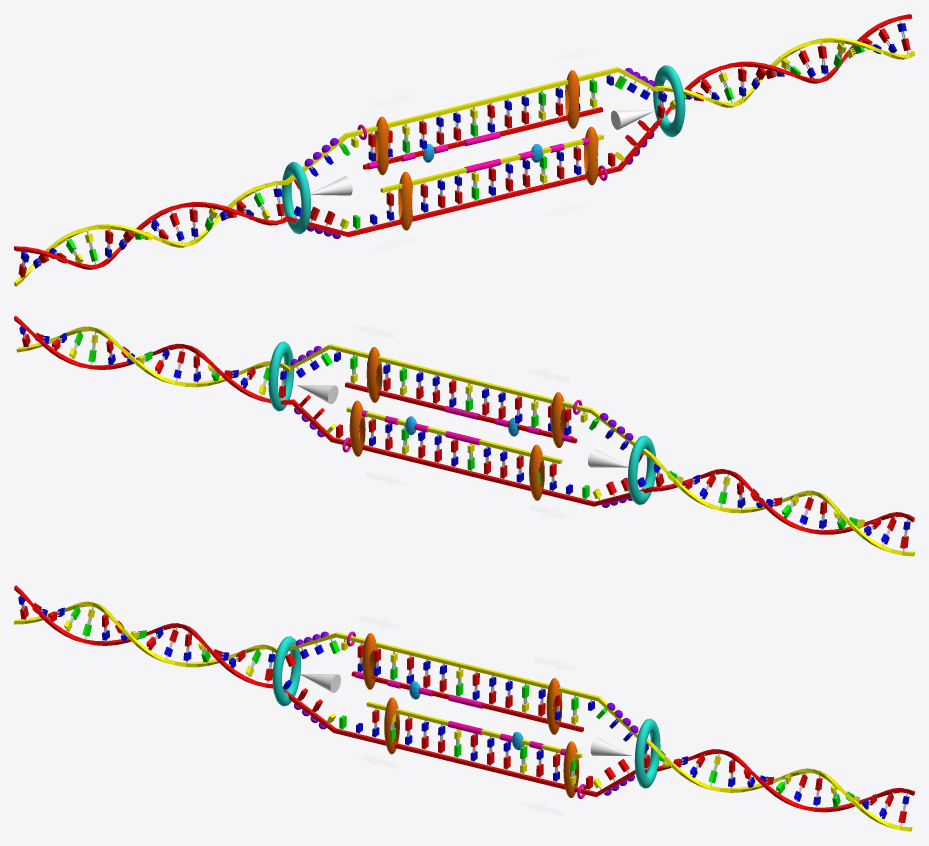
File: dna_replication_model.glb
3 renders of one model, top to bottom at view 1: azimuth 30°, elevation 25°; view 2: azimuth 150°, elevation 25°; view 3: azimuth 330°, elevation 25°, orthographic. The views are drawn at different scales.
Visible parts, largest first — view 1: DNA, DNA.001, Torus, Torus.002, Sphere.020, Sphere.023, Sphere.021, Sphere.022; view 2: DNA, DNA.001, Torus, Torus.002, Sphere.022, Sphere.020, Sphere.023, Sphere.021; view 3: DNA, DNA.001, Torus.002, Torus, Sphere.020, Sphere.021, Sphere.023, Sphere.022.
Boxes of the visible parts, x1,y1,x2,y2 form: DNA: (14,180,288,286); DNA.001: (651,14,914,125); Torus: (281,162,310,234); Torus.002: (653,65,685,136); Sphere.020: (398,171,412,230); Sphere.023: (565,70,579,128); Sphere.021: (374,116,388,175); Sphere.022: (584,126,598,185); DNA: (649,453,914,556); DNA.001: (14,315,293,404); Torus: (628,435,655,504); Torus.002: (268,341,294,411); Sphere.022: (349,400,365,456); Sphere.020: (529,444,544,500); Sphere.023: (366,347,382,402); Sphere.021: (551,392,566,447); DNA: (14,585,277,688); DNA.001: (644,738,914,831); Torus.002: (634,718,660,788); Torus: (272,636,300,706); Sphere.020: (384,697,399,754); Sphere.021: (362,633,377,689); Sphere.023: (546,678,562,734); Sphere.022: (563,741,579,797).
Size of the model in its own units: 28.4 by 4.82 by 1.98.
